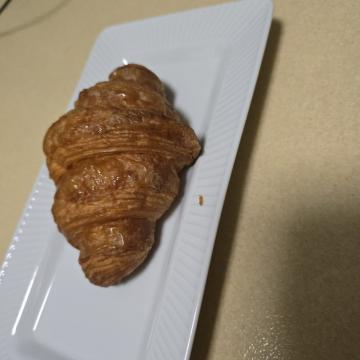croissant: (54, 150, 298, 328)
